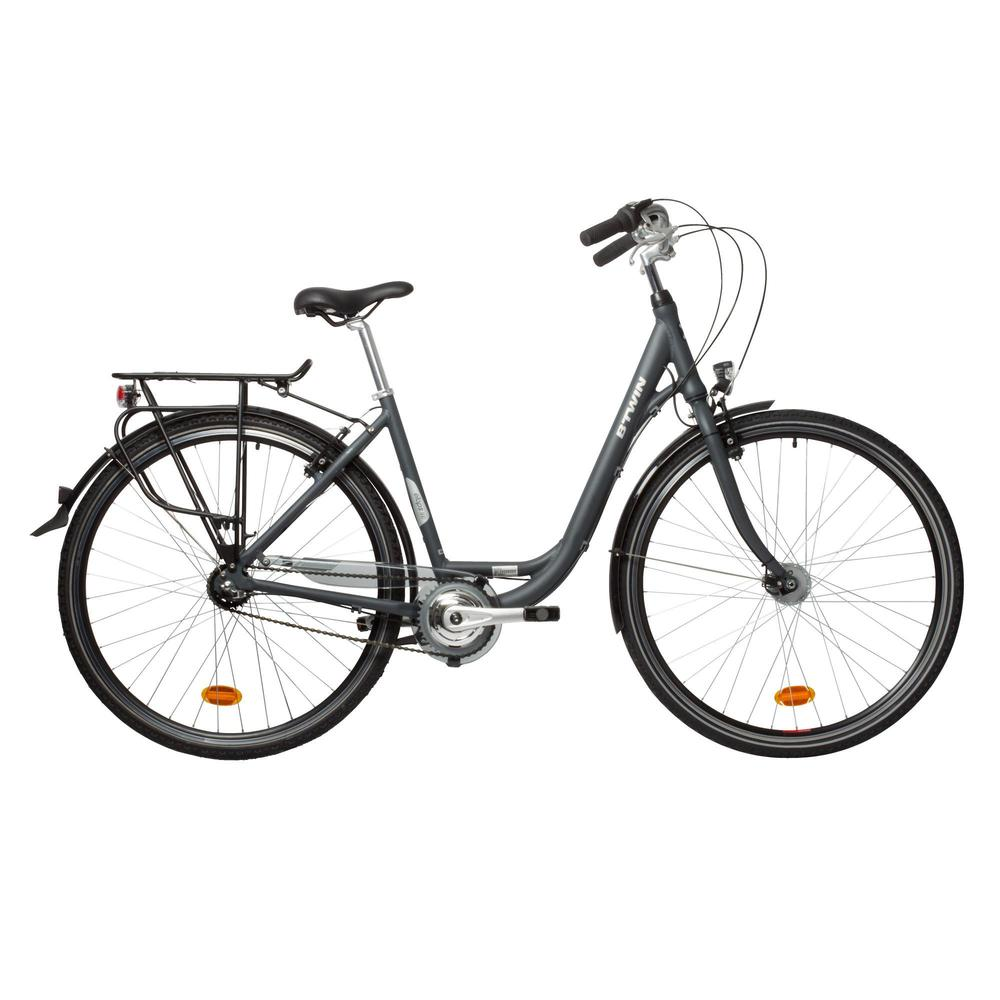UrbanBike: (48, 201, 960, 778)
